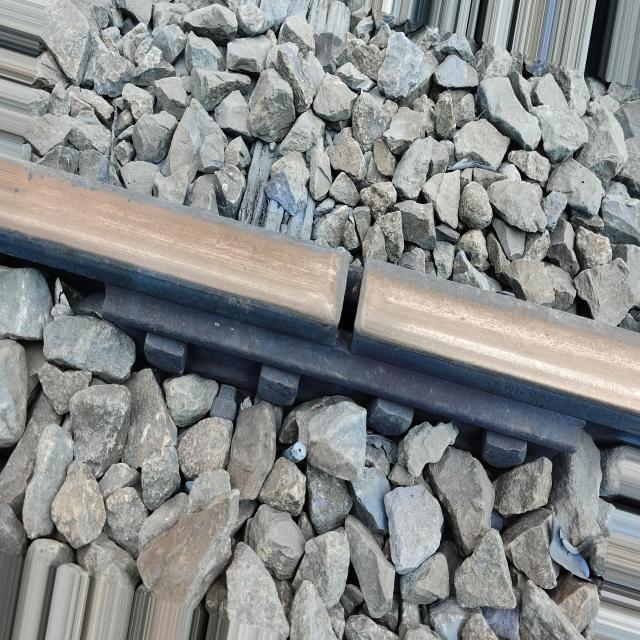Good Joint: (79, 164, 608, 490)
